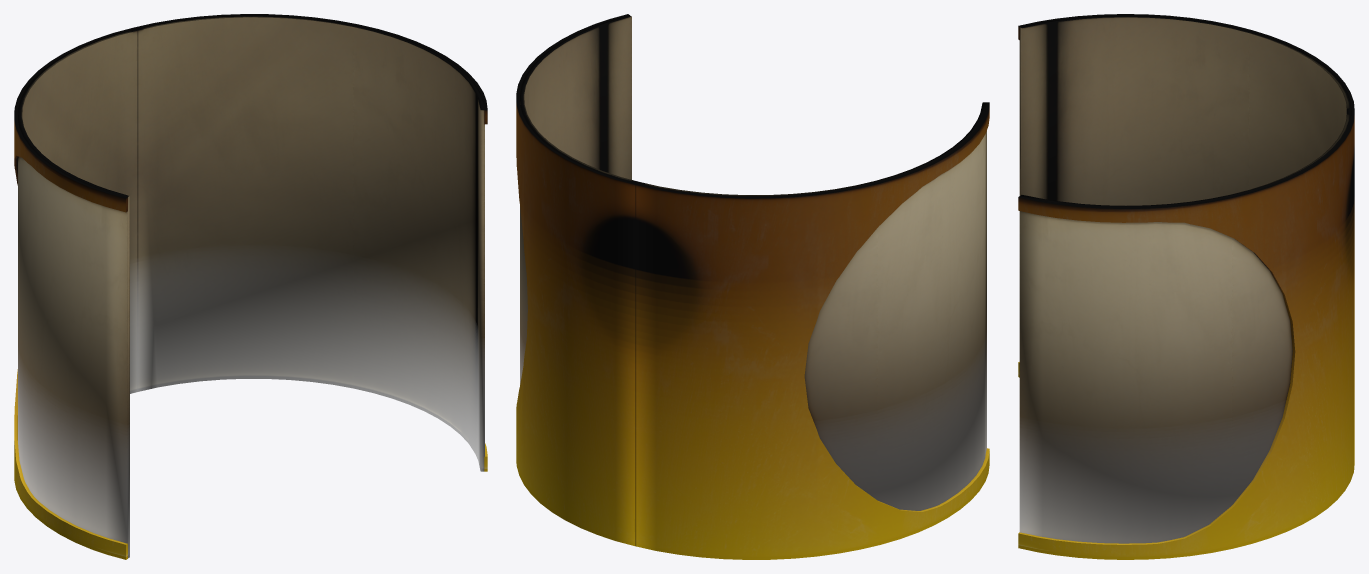
File: stoyka.glb
3 views of the same model, side by side, from view 1: azimuth 30°, elevation 25°; view 2: azimuth 150°, elevation 25°; view 3: azimuth 270°, elevation 25° (orthographic). The views are drawn at different scales.
Parts seen in each view (by area): view 1: Glass_6; view 2: Glass_6; view 3: Glass_6.
Boxes of the visible parts, box(x1,y1,x2,y2) form: Glass_6: box(14, 14, 487, 559); Glass_6: box(516, 14, 989, 559); Glass_6: box(1018, 14, 1354, 559).
Size of the model in its own units: 0.9468 by 0.7941 by 0.6902.
1 material, 1 textured.
